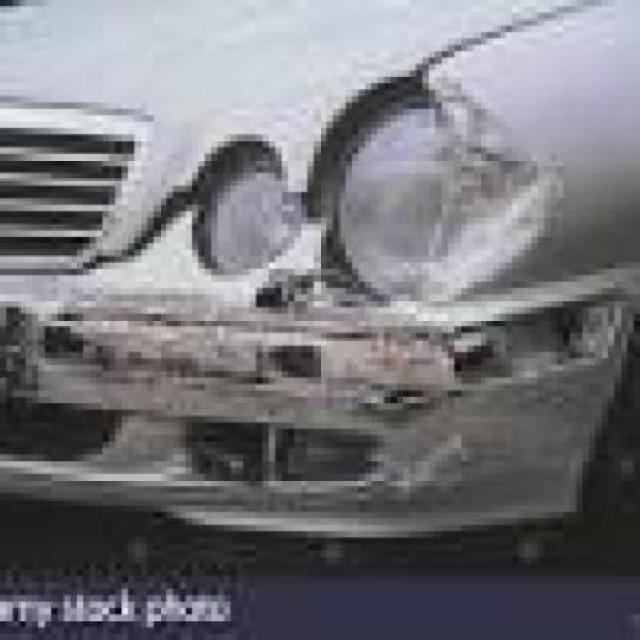Headlight-Damage: (89, 121, 550, 313)
front-bumper-dent: (6, 296, 608, 507)
